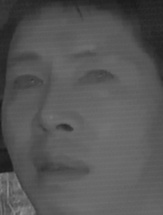eye: (79, 68, 115, 87), (12, 72, 44, 91)
mouth: (28, 148, 95, 187)
